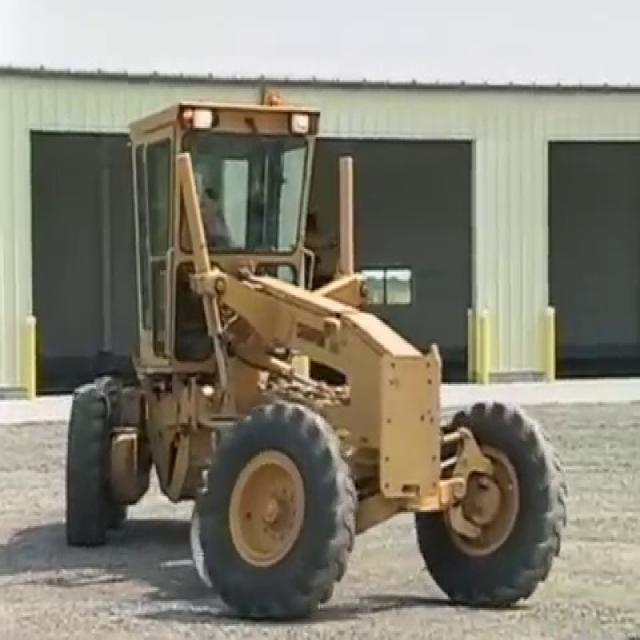buldozerpayloadergrader: (65, 103, 560, 615)
